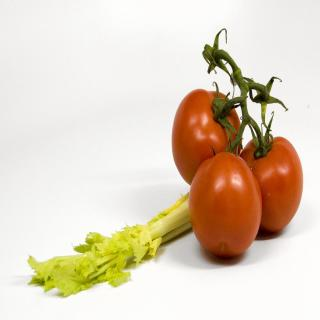tomato: (171, 82, 245, 186), (191, 152, 262, 259), (243, 132, 303, 240)
